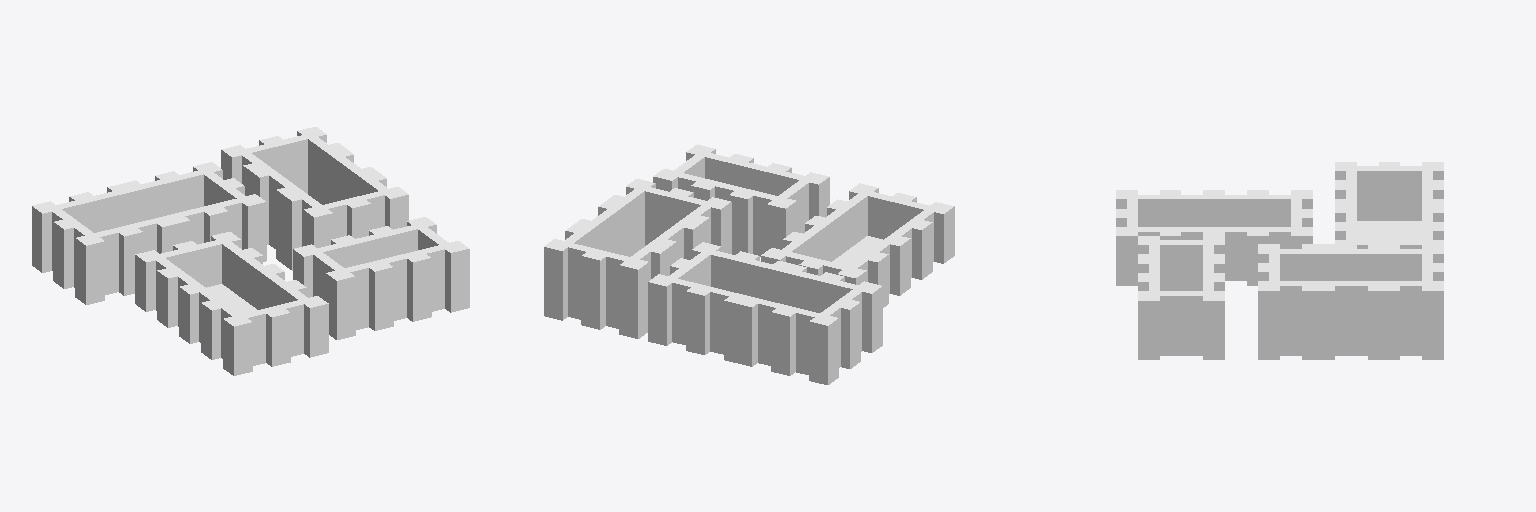
Rendered from waste_solid.obj.
The picture shows the model from 3 angles: view 1: azimuth 30°, elevation 25°; view 2: azimuth 150°, elevation 25°; view 3: azimuth 270°, elevation 25°; orthographic projection.
Visible parts, largest first — view 1: object 1; view 2: object 1; view 3: object 1.
Boxes of the visible parts, x1=… form: object 1: x1=32, y1=127, x2=469, y2=375; object 1: x1=544, y1=144, x2=954, y2=384; object 1: x1=1116, y1=162, x2=1443, y2=359.
Size of the model in its own units: 3 by 0.7 by 3.